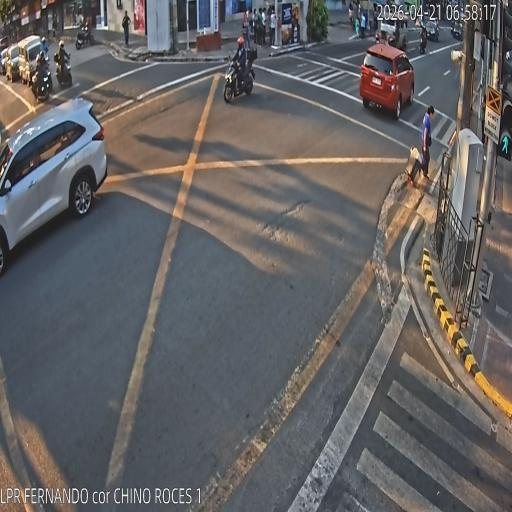Car: (0, 97, 112, 284), (360, 42, 414, 120), (18, 36, 45, 81), (4, 44, 21, 82), (425, 17, 439, 42), (0, 46, 9, 75), (454, 23, 462, 41)
Motor: (224, 48, 256, 102), (31, 55, 52, 99), (54, 49, 72, 88), (76, 24, 96, 49), (41, 36, 51, 70), (419, 25, 429, 57), (450, 20, 454, 36)
